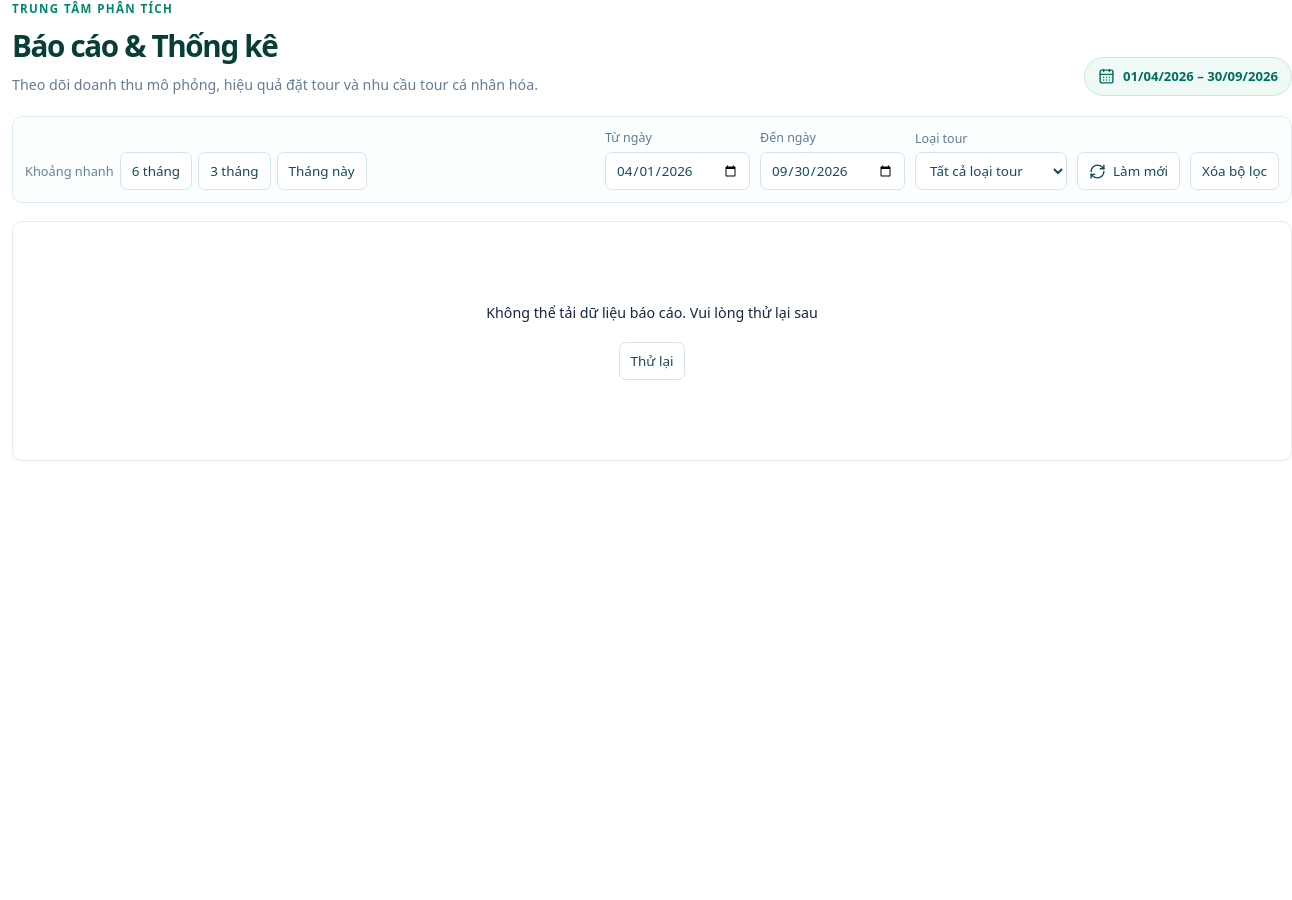
Test: shows report load error and retries
Expected: the message shows "Không thể tải dữ liệu báo cáo", [486,303,818,322]
Click the button "Thử lại". click: [652, 361]
box: [619,342,685,380]
(page scrolled)
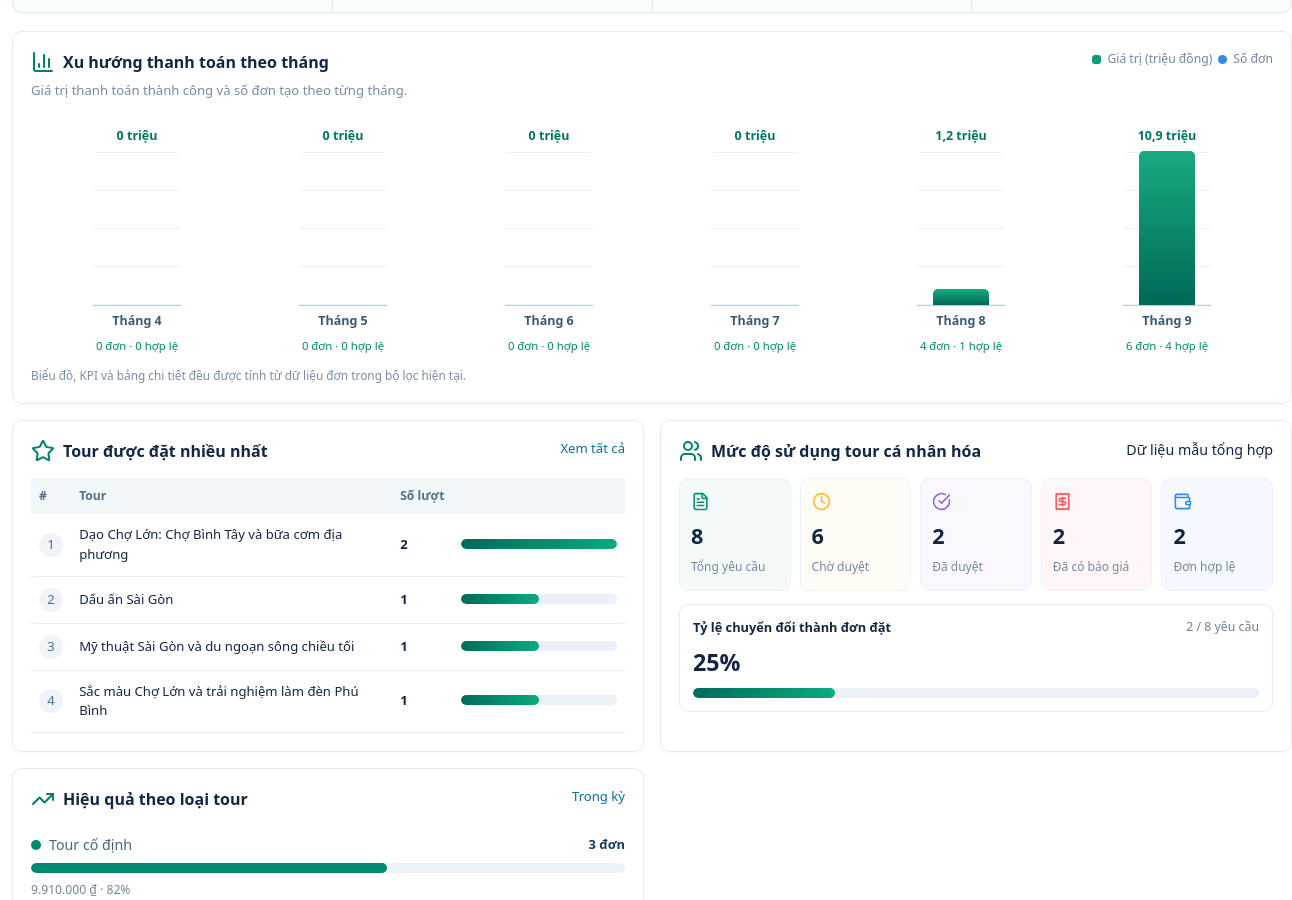
Expected: the heading "Tour được đặt nhiều nhất" is shown, [31,439,268,463]
